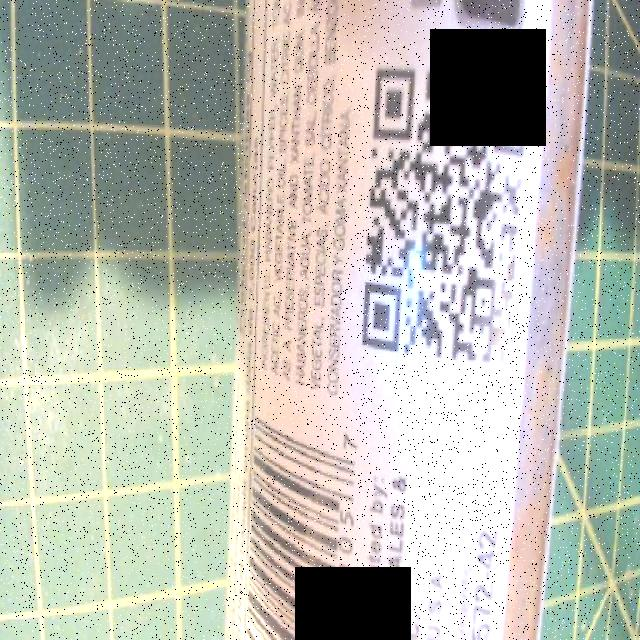QR_CODE: (351, 41, 529, 379)
